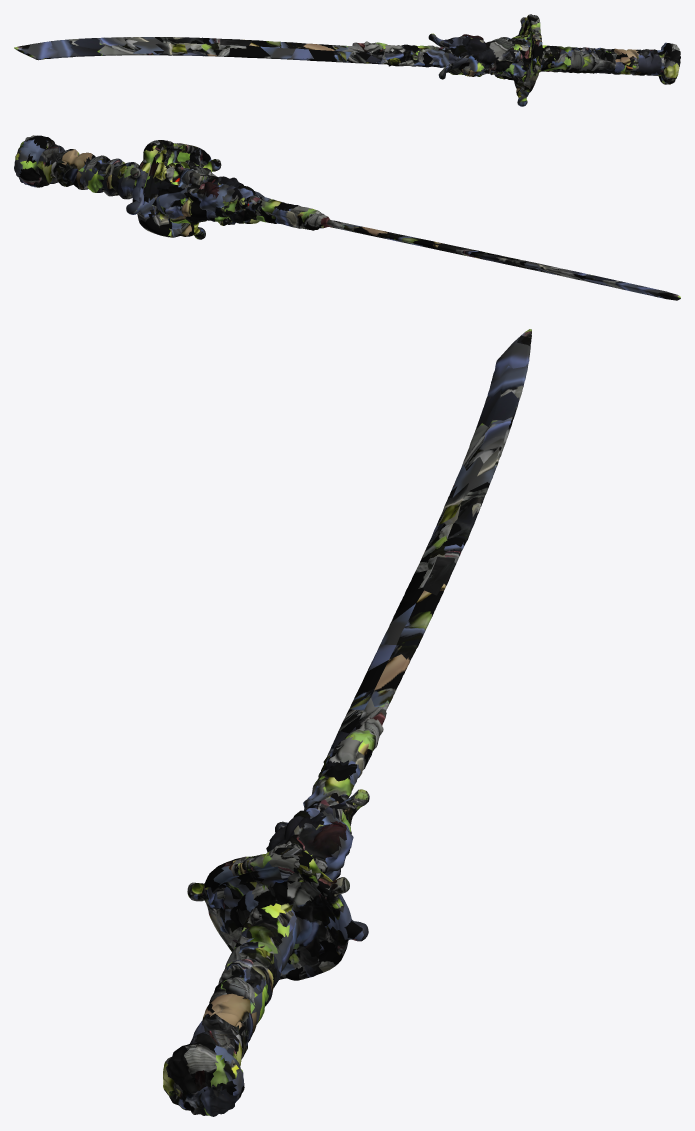
Rendered from katana.fbx.
The picture shows the model from 3 angles, top to bottom: view 1: azimuth 30°, elevation 25°; view 2: azimuth 150°, elevation 25°; view 3: azimuth 270°, elevation 25°; orthographic projection. The views are drawn at different scales.
Visible parts, largest first — view 1: Katana; view 2: Katana; view 3: Katana.
Boxes of the visible parts, x1=… form: Katana: x1=14, y1=14, x2=680, y2=106; Katana: x1=14, y1=135, x2=680, y2=300; Katana: x1=163, y1=329, x2=531, y2=1116.
Bounding box in the file's own units: 207 × 38.74 × 56.72.
